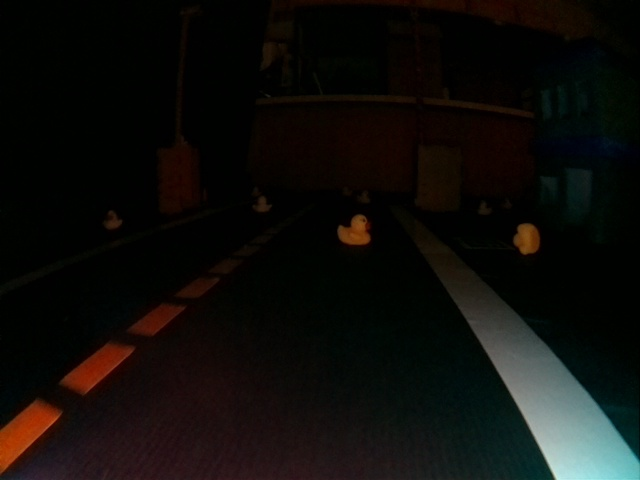Duckie: (337, 214, 372, 245), (513, 224, 541, 254), (104, 209, 122, 229), (253, 197, 270, 213), (477, 202, 490, 214), (359, 192, 370, 202), (342, 186, 352, 195), (504, 199, 512, 207)
